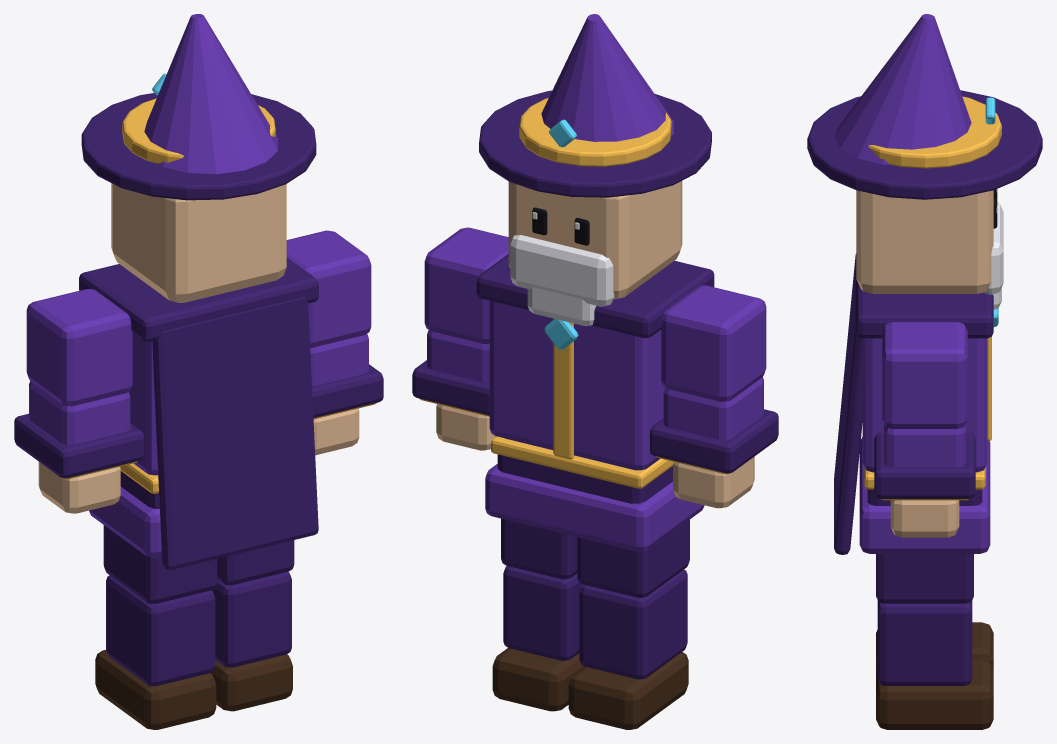
Rendered from Mage.glb.
3 renders of one model, left to right at view 1: azimuth 30°, elevation 25°; view 2: azimuth 150°, elevation 25°; view 3: azimuth 270°, elevation 25°, orthographic.
Visible parts, largest first — view 1: UpperTorso, Head, LeftUpperArm, LeftLowerLeg, LeftLowerArm, RightUpperArm, RightLowerLeg, LeftFoot, RightLowerArm, LeftUpperLeg, LowerTorso, RightFoot (+3 smaller); view 2: Head, UpperTorso, LowerTorso, LeftUpperArm, LeftLowerLeg, LeftLowerArm, RightUpperArm, RightLowerLeg, LeftFoot, LeftUpperLeg, RightLowerArm, RightFoot (+3 smaller); view 3: Head, UpperTorso, RightUpperArm, RightLowerLeg, RightLowerArm, LowerTorso, RightFoot, RightUpperLeg, RightHand, LeftFoot.
Boxes of the visible parts, box(x1,y1,x2,y2) form: UpperTorso: box(79, 257, 318, 569); Head: box(81, 14, 316, 302); LeftUpperArm: box(26, 289, 132, 406); LeftLowerLeg: box(106, 575, 215, 686); LeftLowerArm: box(14, 381, 144, 479); RightUpperArm: box(286, 230, 371, 347); RightLowerLeg: box(212, 571, 291, 667); LeftFoot: box(95, 650, 216, 729); RightLowerArm: box(310, 334, 383, 419); LeftUpperLeg: box(103, 525, 217, 603); LowerTorso: box(89, 463, 161, 557); RightFoot: box(211, 654, 292, 711); Head: box(479, 14, 711, 325); UpperTorso: box(476, 254, 714, 470); LowerTorso: box(485, 436, 704, 551); LeftUpperArm: box(661, 285, 766, 401); LeftLowerLeg: box(579, 569, 687, 679); LeftLowerArm: box(650, 377, 778, 474); RightUpperArm: box(424, 227, 508, 343); RightLowerLeg: box(503, 566, 582, 660); LeftFoot: box(568, 652, 688, 729); LeftUpperLeg: box(577, 519, 689, 597); RightLowerArm: box(412, 330, 489, 416); RightFoot: box(492, 648, 583, 711); Head: box(807, 14, 1042, 309); UpperTorso: box(834, 253, 998, 554); RightUpperArm: box(882, 322, 967, 428); RightLowerLeg: box(877, 600, 972, 685); RightLowerArm: box(874, 423, 975, 500); LowerTorso: box(859, 437, 990, 553); RightFoot: box(876, 660, 993, 729); RightUpperLeg: box(876, 554, 973, 603); RightHand: box(890, 500, 959, 537); LeftFoot: box(876, 622, 993, 669).
Size of the model in its own units: 1.14 by 2.3 by 0.72.
2 materials, 1 textured.
